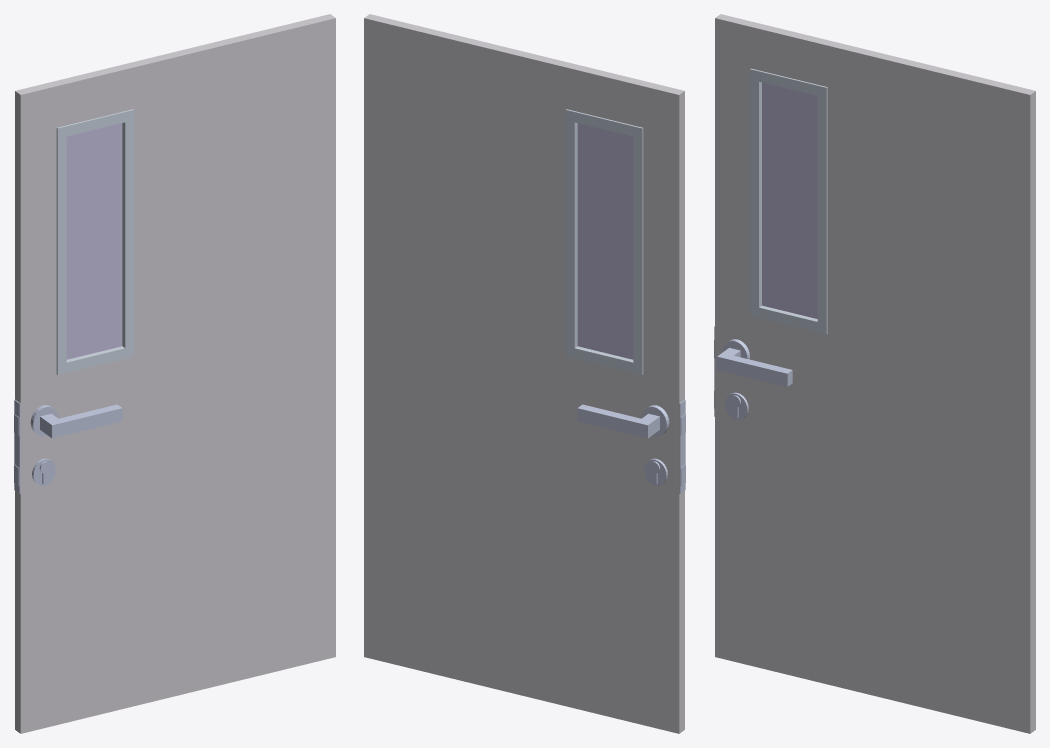
Rendered from дверь.fbx.
3 renders of one model, left to right at view 1: azimuth 30°, elevation 25°; view 2: azimuth 150°, elevation 25°; view 3: azimuth 330°, elevation 25°, orthographic.
Visible parts, largest first — view 1: Door; view 2: Door; view 3: Door.
Boxes of the visible parts, left/top/right/bottom form: Door: left=14, top=14, right=335, bottom=733; Door: left=364, top=14, right=685, bottom=733; Door: left=714, top=14, right=1035, bottom=733.
Size of the model in its own units: 135 by 261 by 25.94.
